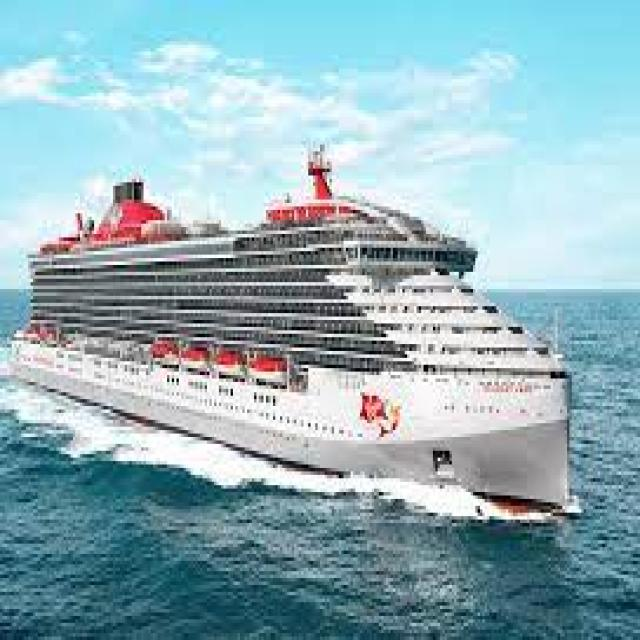passenger ship: (6, 150, 584, 512)
